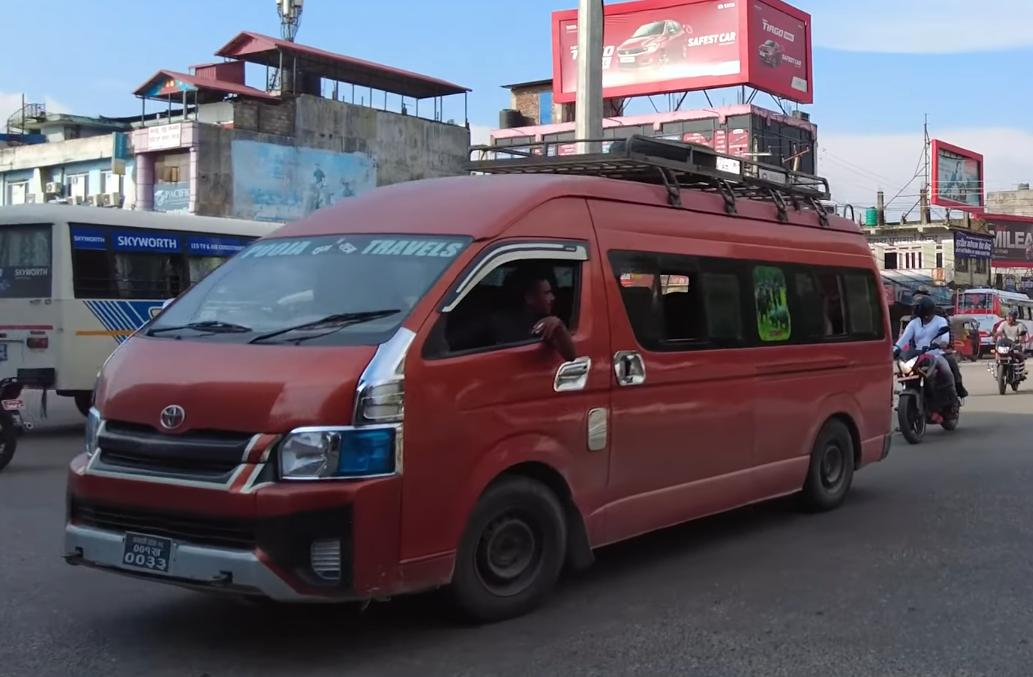bike: (885, 332, 971, 447), (991, 329, 1029, 399)
bus: (0, 194, 267, 406), (958, 282, 1031, 346)
micro_bus: (60, 132, 901, 624)
